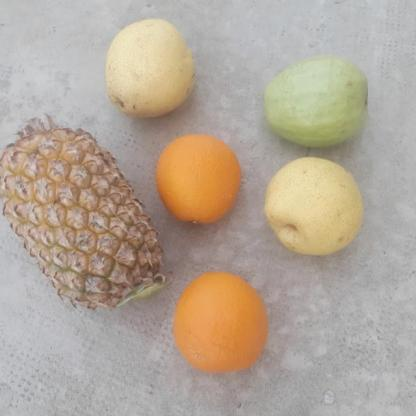guava: (265, 55, 371, 148)
orange: (169, 267, 273, 373), (153, 131, 246, 224)
pear: (100, 17, 202, 119), (263, 157, 369, 254)
pineapple: (0, 122, 170, 308)
